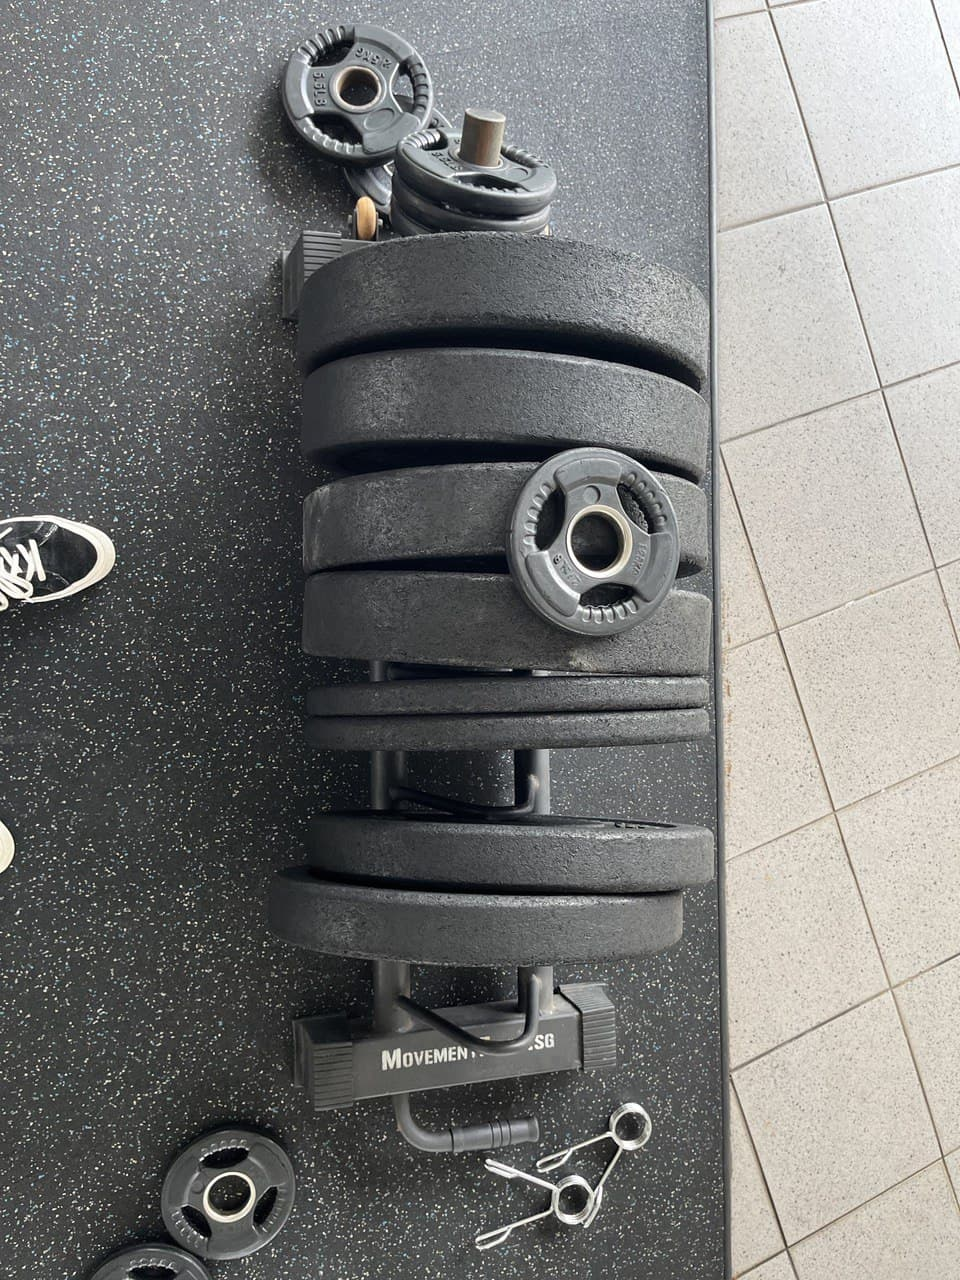weights: (264, 804, 715, 968), (295, 231, 709, 385), (505, 441, 684, 640), (291, 679, 717, 761), (279, 23, 434, 164), (157, 1125, 299, 1264), (378, 129, 553, 231)
